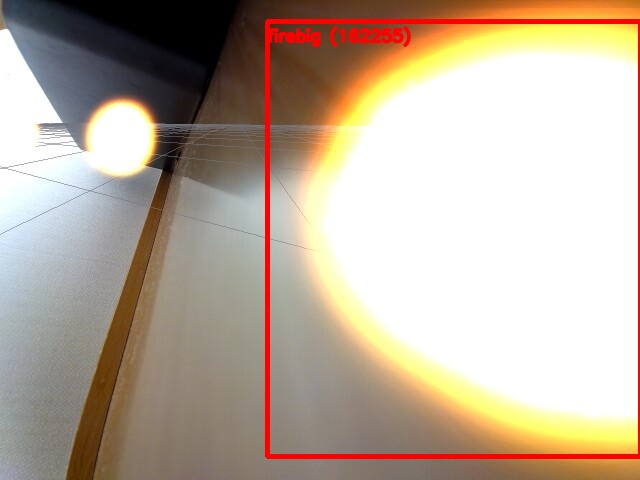firebig: (267, 21, 640, 456)
